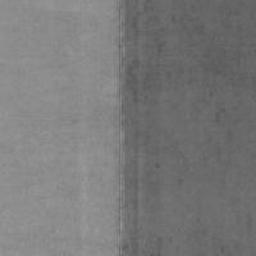Welding line: (115, 0, 125, 256)
